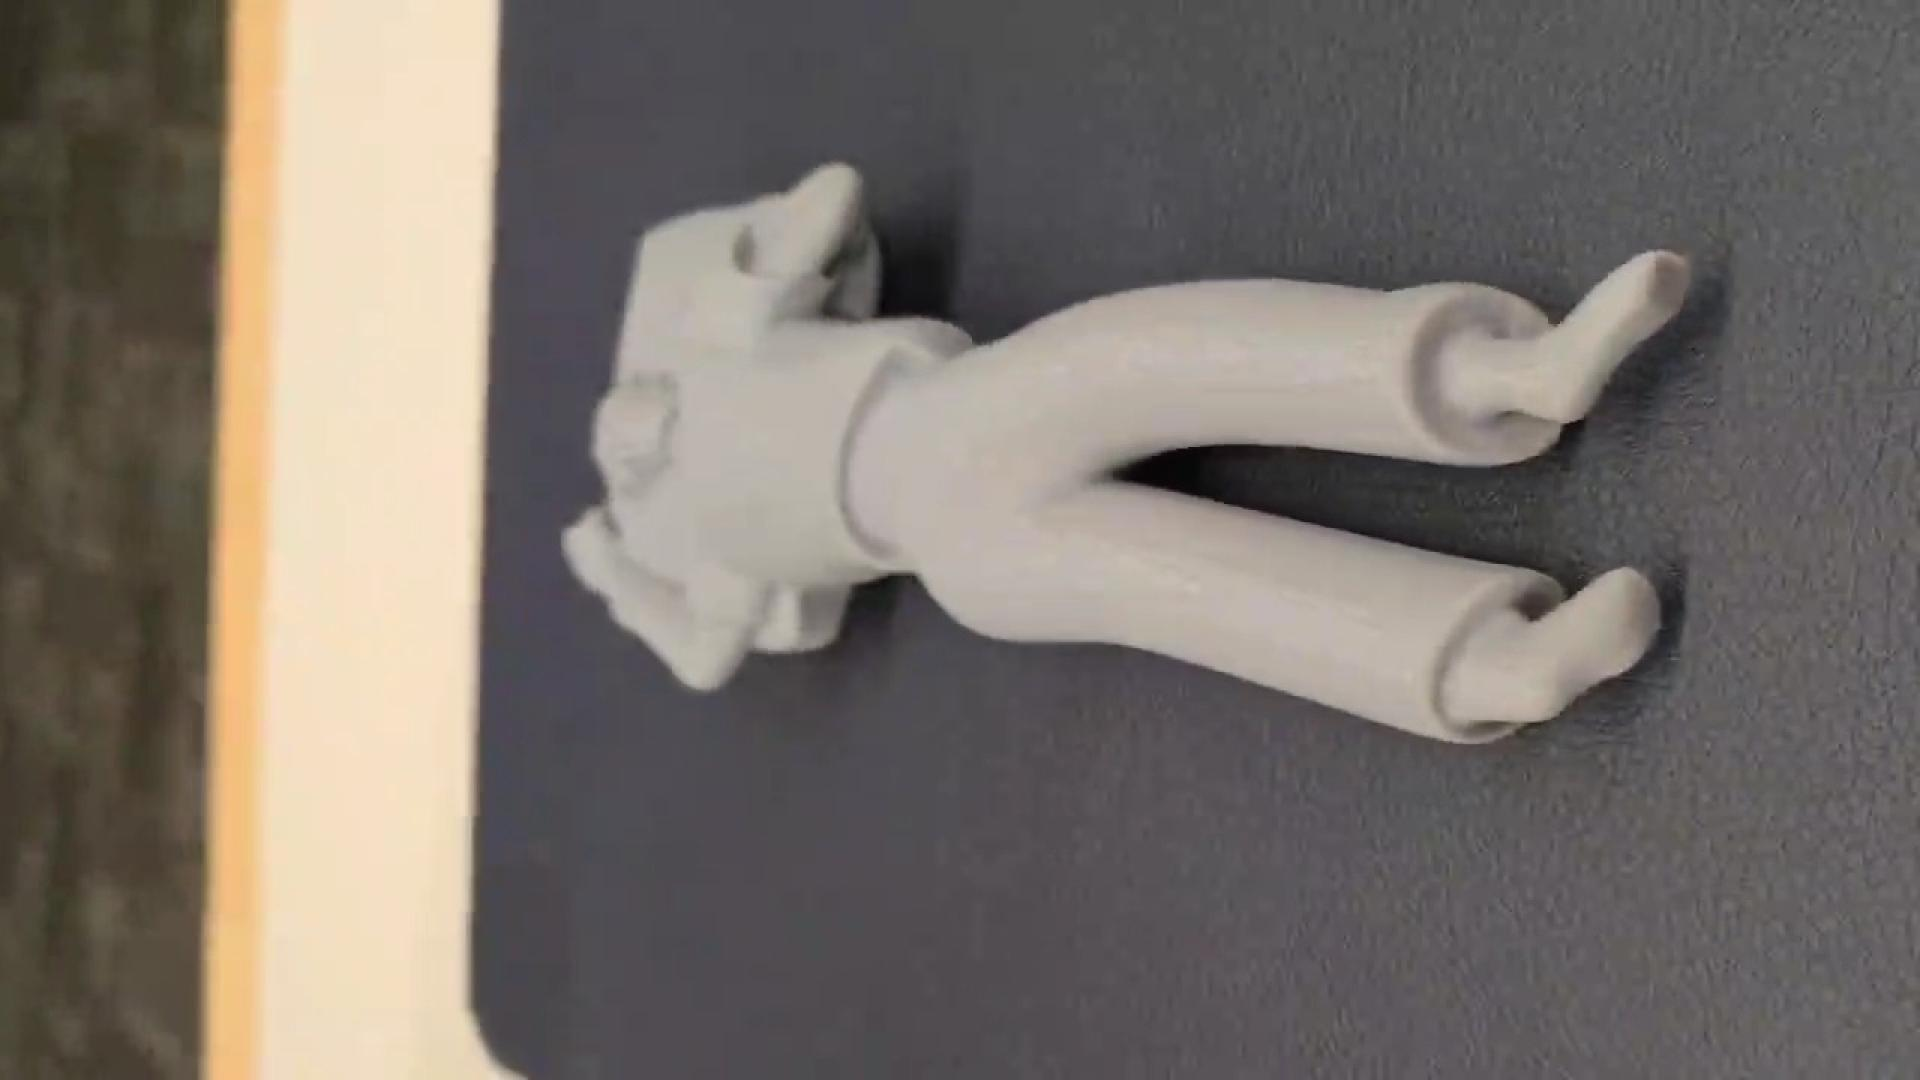Bad-style: (553, 156, 1693, 754)
